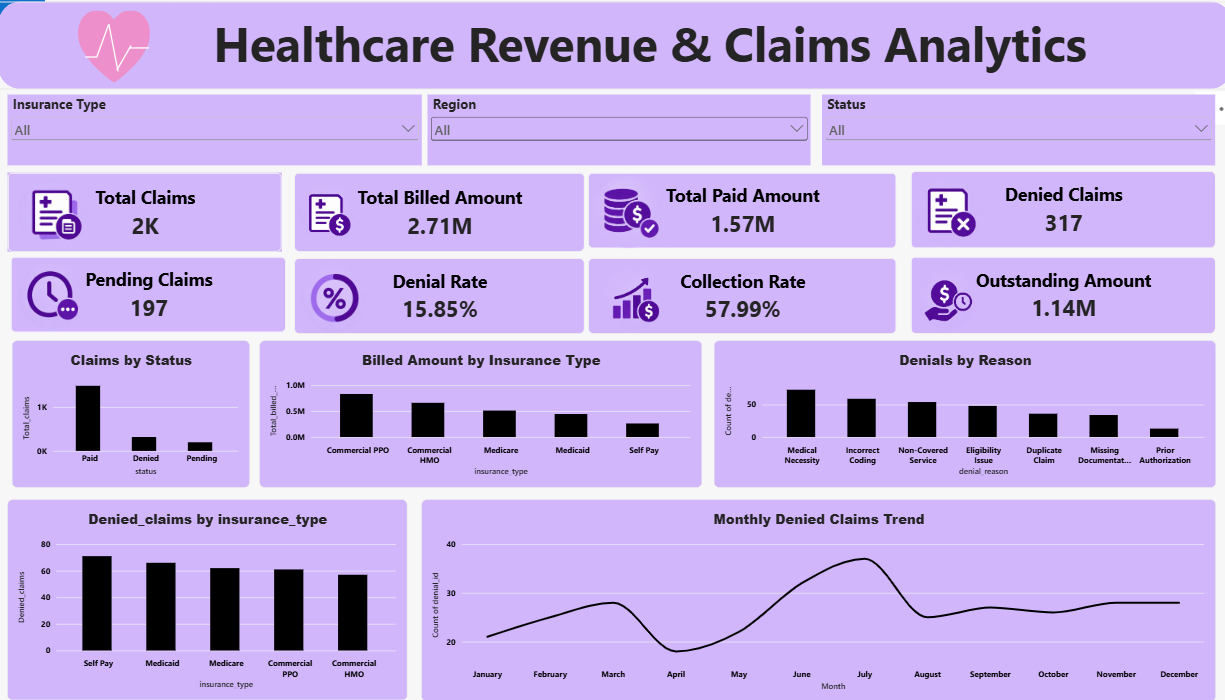

Layout of this report page (visuals, bound fields, positions):
{"tool":"powerbi","page":{"name":"Page 1","canvas":[1920,1080],"ordinal":0},"visuals":[{"type":"cardVisual","fields":{"Data":["Claim_Denials_Cleaned.Total_claims"]},"box":[44,266,415,120],"z":0},{"type":"cardVisual","fields":{"Data":["Claim_Denials_Cleaned.Total_billed_amount"]},"box":[476,266,440,120],"z":1000},{"type":"cardVisual","fields":{"Data":["Claim_Denials_Cleaned.Total_Paid_Amount"]},"box":[922,266,467.5,115],"z":2000},{"type":"cardVisual","fields":{"Data":["Claim_Denials_Cleaned.Denied_claims"]},"box":[1410,264,462.5,117.5],"z":3000},{"type":"cardVisual","fields":{"Data":["Claim_Denials_Cleaned.Penidng_claims"]},"box":[48,394,417.5,115],"z":4000},{"type":"cardVisual","fields":{"Data":["Claim_Denials_Cleaned.Denial_Rate"]},"box":[476,396,440,115],"z":5000},{"type":"cardVisual","fields":{"Data":["Claim_Denials_Cleaned.Collection_Rate"]},"box":[922,396,467.5,115],"z":6000},{"type":"cardVisual","fields":{"Data":["Claim_Denials_Cleaned.Outstanding_Amount"]},"box":[1410,394,462.5,117.5],"z":7000},{"type":"actionButton","box":[0,0,100,40],"z":13000},{"type":"shape","box":[30,7.5,1867.5,132.5],"z":13002},{"type":"textbox","box":[262.5,20,1505,127.5],"z":13003},{"type":"shape","box":[150,20,108.9,108.9],"z":13004},{"type":"shape","box":[161.1,15.6,16.7,150],"z":13005},{"type":"shape","box":[177.8,40,20,51.4],"z":13006},{"type":"shape","box":[191.1,40,25.6,72.2],"z":13007},{"type":"shape","box":[204.4,73.3,30,38.9],"z":13008},{"type":"shape","box":[227.8,46.7,30,58.9],"z":13009},{"type":"slicer","fields":{"Values":["Claims_Cleaned.insurance_type"]},"box":[42.5,147.5,627.5,107.5],"z":13010},{"type":"slicer","fields":{"Values":["Patients_Cleaned.region"]},"box":[680,147.5,580,107.5],"z":13011},{"type":"slicer","fields":{"Values":["Claims_Cleaned.status"]},"box":[1277.5,147.5,595,107.5],"z":13012},{"type":"image","box":[42.5,265,125,122.5],"z":13013},{"type":"image","box":[475,265,105,122.5],"z":13014},{"type":"image","box":[922.5,265,125,120],"z":13015},{"type":"image","box":[1410,265,120,115],"z":13016},{"type":"image","box":[45,380,115,140],"z":13017},{"type":"image","box":[475,387.5,127.5,130],"z":13018},{"type":"image","box":[922.5,395,142.5,115],"z":13019},{"type":"image","box":[1410,400,120,110],"z":13020},{"type":"columnChart","title":"Claims by Status","fields":{"Category":["Claims_Cleaned.status"],"Y":["Claim_Denials_Cleaned.Total_claims"]},"box":[50,520,360,222.5],"z":13021},{"type":"columnChart","title":"Billed Amount by Insurance Type","fields":{"Category":["Claims_Cleaned.insurance_type"],"Y":["Claim_Denials_Cleaned.Total_billed_amount"]},"box":[425,520,670,222.5],"z":13022},{"type":"columnChart","title":"Denials by Reason","fields":{"Category":["Claim_Denials_Cleaned.denial_reason"],"Y":["CountNonNull(Claim_Denials_Cleaned.denial_id)"]},"box":[1112.5,520,760,222.5],"z":13023},{"type":"columnChart","fields":{"Category":["Claims_Cleaned.insurance_type"],"Y":["Claim_Denials_Cleaned.Denied_claims"]},"box":[42.5,760,605,305],"z":13024},{"type":"lineChart","title":"Monthly Denied Claims Trend","fields":{"Category":["Claim_Denials_Cleaned.Denial_Month.Variation.Date Hierarchy.Month"],"Y":["CountNonNull(Claim_Denials_Cleaned.denial_id)"]},"box":[670,760,1202.5,307.5],"z":13025}]}

Visuals, with their boxes in screenshot pixels (x1, y1, x2, y2), scaled from the page's 1920x1080 canvas onto the 1225x700 screenshot:
cardVisual - Claim_Denials_Cleaned.Total_claims: x1=28, y1=172, x2=293, y2=250
cardVisual - Claim_Denials_Cleaned.Total_billed_amount: x1=304, y1=172, x2=584, y2=250
cardVisual - Claim_Denials_Cleaned.Total_Paid_Amount: x1=588, y1=172, x2=887, y2=247
cardVisual - Claim_Denials_Cleaned.Denied_claims: x1=900, y1=171, x2=1195, y2=247
cardVisual - Claim_Denials_Cleaned.Penidng_claims: x1=31, y1=255, x2=297, y2=330
cardVisual - Claim_Denials_Cleaned.Denial_Rate: x1=304, y1=257, x2=584, y2=331
cardVisual - Claim_Denials_Cleaned.Collection_Rate: x1=588, y1=257, x2=887, y2=331
cardVisual - Claim_Denials_Cleaned.Outstanding_Amount: x1=900, y1=255, x2=1195, y2=332
actionButton: x1=0, y1=0, x2=64, y2=26
shape: x1=19, y1=5, x2=1211, y2=91
textbox: x1=167, y1=13, x2=1128, y2=96
shape: x1=96, y1=13, x2=165, y2=84
shape: x1=103, y1=10, x2=113, y2=107
shape: x1=113, y1=26, x2=126, y2=59
shape: x1=122, y1=26, x2=138, y2=73
shape: x1=130, y1=48, x2=150, y2=73
shape: x1=145, y1=30, x2=164, y2=68
slicer - Claims_Cleaned.insurance_type: x1=27, y1=96, x2=427, y2=165
slicer - Patients_Cleaned.region: x1=434, y1=96, x2=804, y2=165
slicer - Claims_Cleaned.status: x1=815, y1=96, x2=1195, y2=165
image: x1=27, y1=172, x2=107, y2=251
image: x1=303, y1=172, x2=370, y2=251
image: x1=589, y1=172, x2=668, y2=250
image: x1=900, y1=172, x2=976, y2=246
image: x1=29, y1=246, x2=102, y2=337
image: x1=303, y1=251, x2=384, y2=335
image: x1=589, y1=256, x2=679, y2=331
image: x1=900, y1=259, x2=976, y2=331
"Claims by Status" columnChart: x1=32, y1=337, x2=262, y2=481
"Billed Amount by Insurance Type" columnChart: x1=271, y1=337, x2=699, y2=481
"Denials by Reason" columnChart: x1=710, y1=337, x2=1195, y2=481
columnChart - Claims_Cleaned.insurance_type x Claim_Denials_Cleaned.Denied_claims: x1=27, y1=493, x2=413, y2=690
"Monthly Denied Claims Trend" lineChart: x1=427, y1=493, x2=1195, y2=692
